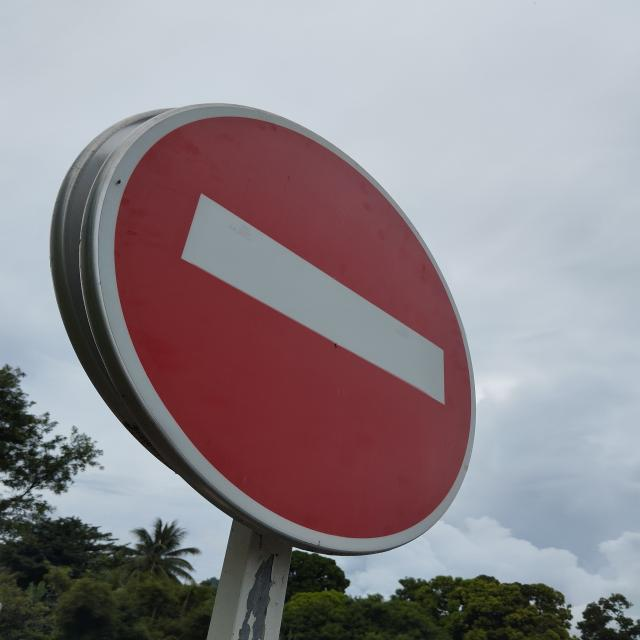Sens-Interdit: (94, 104, 477, 557)
